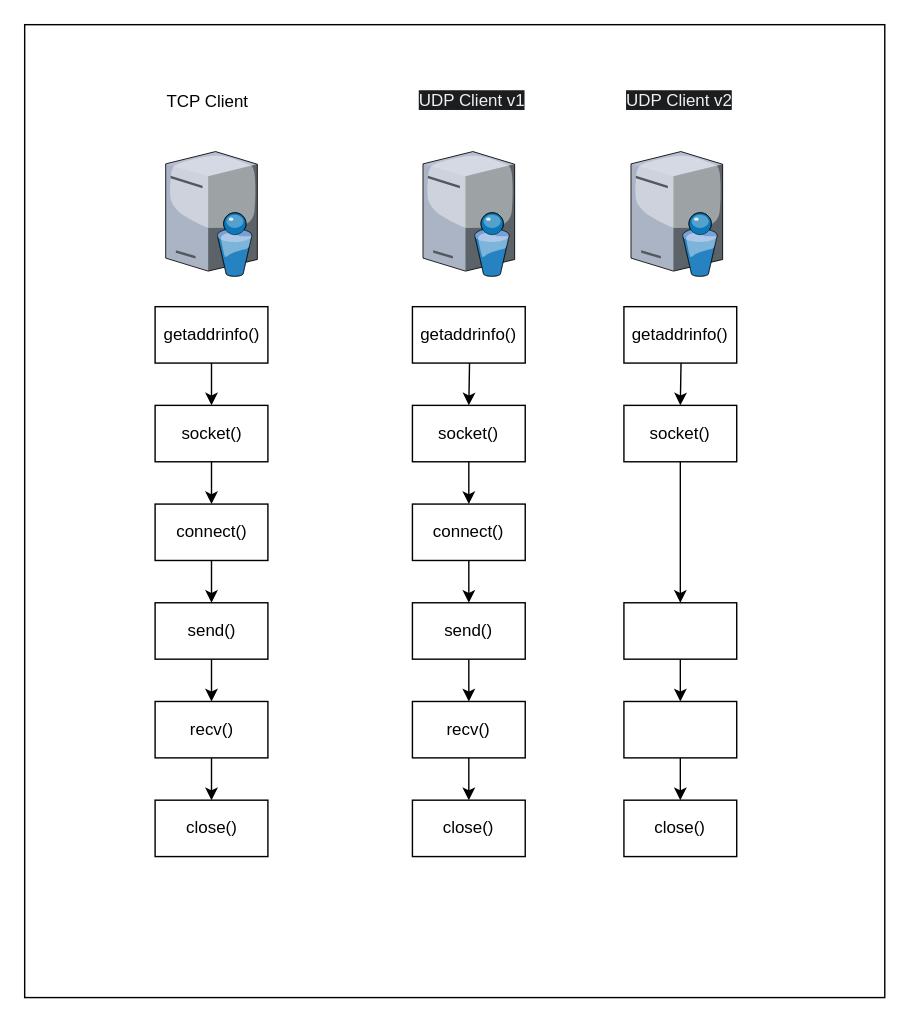
Some shapes in this 909 by 1022 pixel diagram are drawn without their labels. The shapes that lost their labels are listed below. From the top down, each one's centre as x and y in pixels, then its label:
point 680,630: sendto()
point 680,729: recvfrom()
